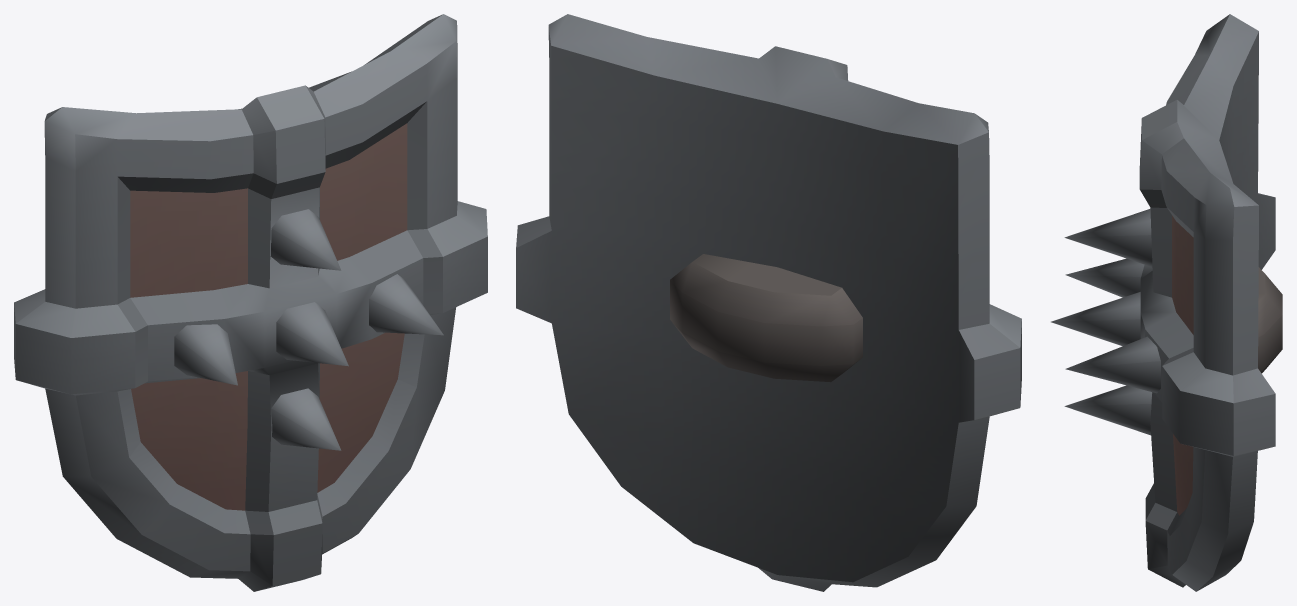
File: shield_spikes.glb
3 views of the same model, side by side, from view 1: azimuth 30°, elevation 25°; view 2: azimuth 150°, elevation 25°; view 3: azimuth 270°, elevation 25° (orthographic). The views are drawn at different scales.
Visible parts, largest first — view 1: shield_spikes; view 2: shield_spikes; view 3: shield_spikes.
Boxes of the visible parts, <box> form: shield_spikes: <box>14,14,487,591</box>; shield_spikes: <box>516,14,1021,591</box>; shield_spikes: <box>1051,14,1282,591</box>.
Size of the model in its own units: 1.01 by 1.04 by 0.4598.
Materials: 1 (1 with a texture image).
